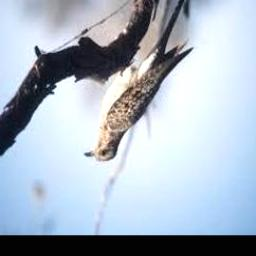Cuckoo: (85, 0, 194, 162)
